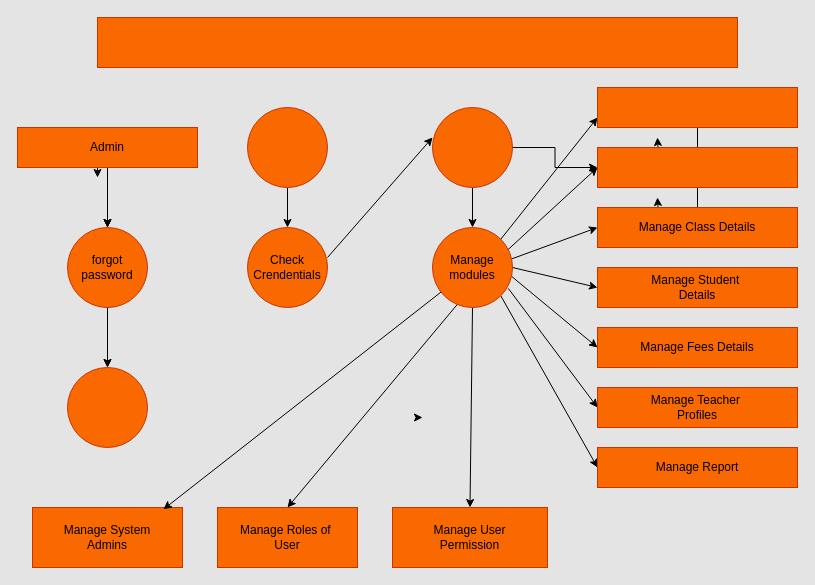
Image size: 815x585. Some labels were removed from this diagram. The shapes that lost their labels are listed below. From the top down, each one's centre as x and y in pixels, then its label:
point 417,42: Student Information Systems
point 697,107: Manage Timetable Details
point 287,147: Login to System
point 472,147: Check Roles of Access
point 697,167: Manage Attendence Details
point 107,407: Send Email to User
